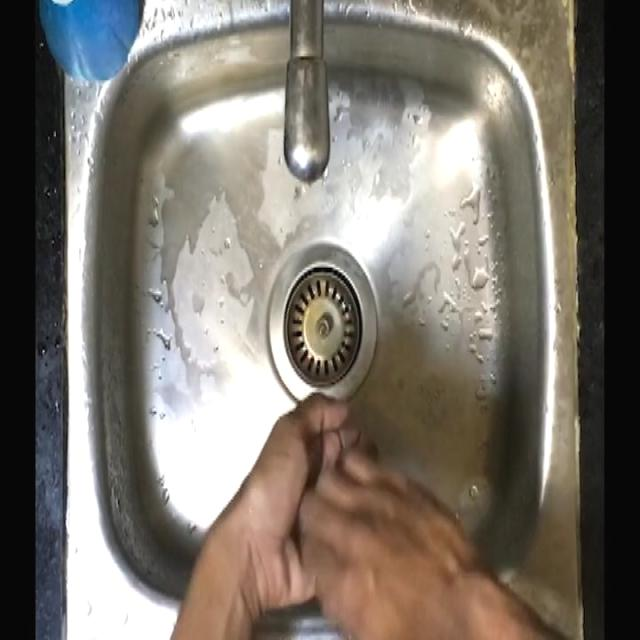step_4: (236, 390, 461, 635)
